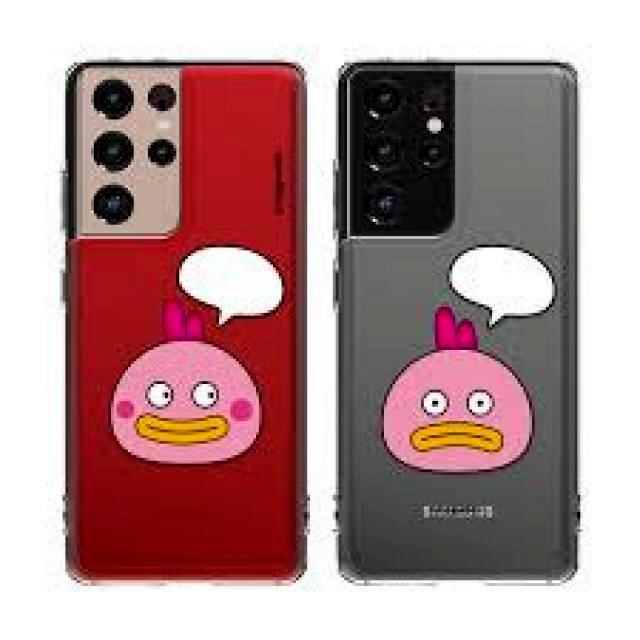lens_back: (89, 75, 137, 124), (90, 180, 136, 229), (89, 128, 136, 175), (361, 181, 404, 229), (362, 81, 402, 119), (364, 130, 401, 170), (418, 136, 449, 170), (146, 134, 177, 167), (148, 82, 177, 112)
phone: (60, 58, 309, 587), (337, 59, 582, 586)
